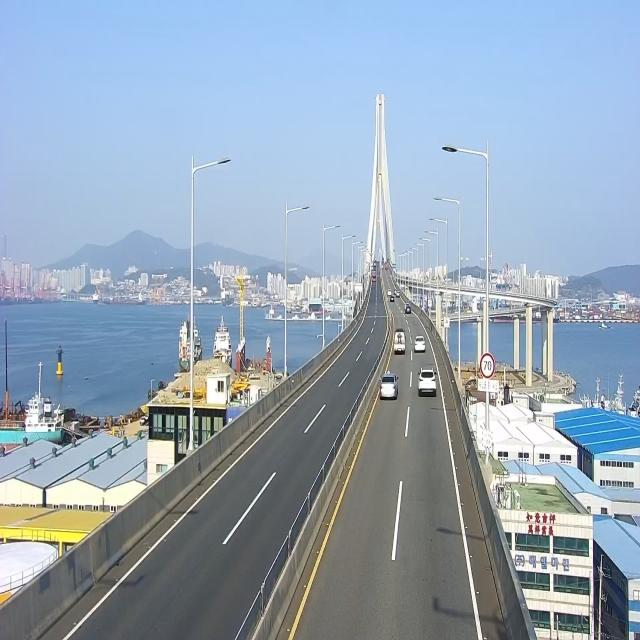Car: (375, 365, 404, 405), (413, 363, 440, 402), (412, 331, 430, 356), (404, 305, 414, 315), (386, 284, 392, 296), (395, 289, 401, 297), (404, 301, 409, 309), (388, 296, 394, 302), (393, 289, 397, 296)
Truck: (390, 325, 408, 356)
